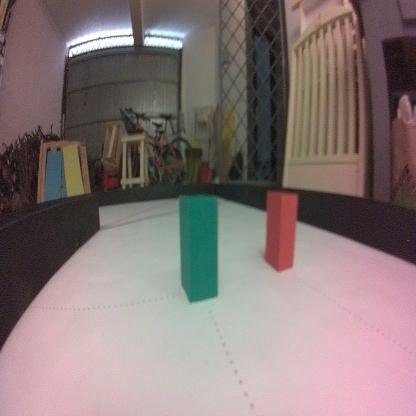green: (175, 189, 221, 309)
red: (264, 188, 297, 273)
